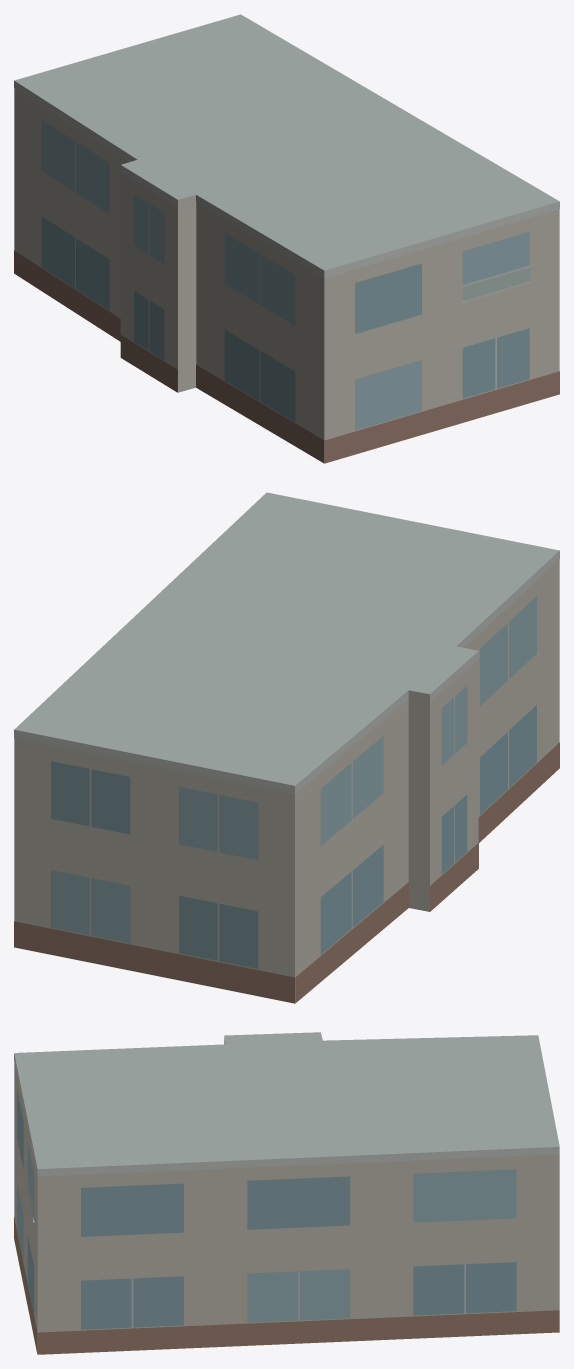
Rendered from survey-upis-32625750.glb.
3 views of the same model, one above another, from view 1: azimuth 30°, elevation 25°; view 2: azimuth 150°, elevation 25°; view 3: azimuth 270°, elevation 25° (orthographic). The views are drawn at different scales.
Parts seen in each view (by area): view 1: survey-upis-32625750.tmp; view 2: survey-upis-32625750.tmp; view 3: survey-upis-32625750.tmp.
Boxes of the visible parts, x1=… form: survey-upis-32625750.tmp: x1=14, y1=14, x2=559, y2=463; survey-upis-32625750.tmp: x1=14, y1=492, x2=559, y2=1003; survey-upis-32625750.tmp: x1=14, y1=1032, x2=559, y2=1354.
Bounding box in the file's own units: 9.67 × 6.1 × 16.27.
